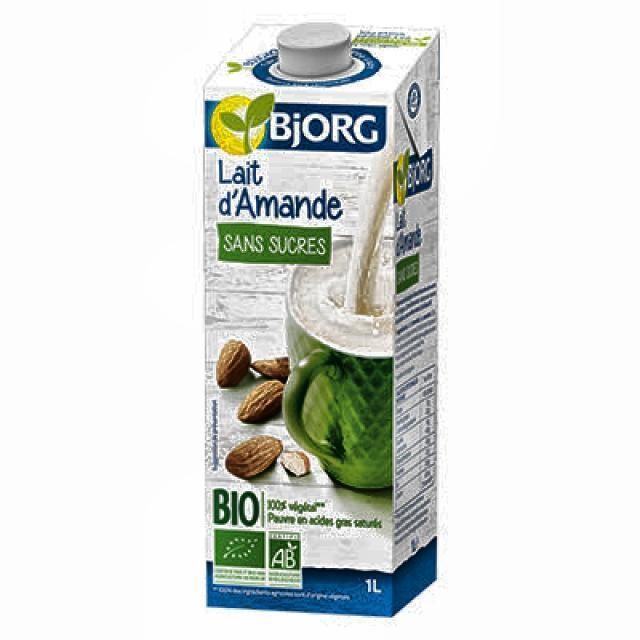cardboard: (202, 19, 440, 616)
